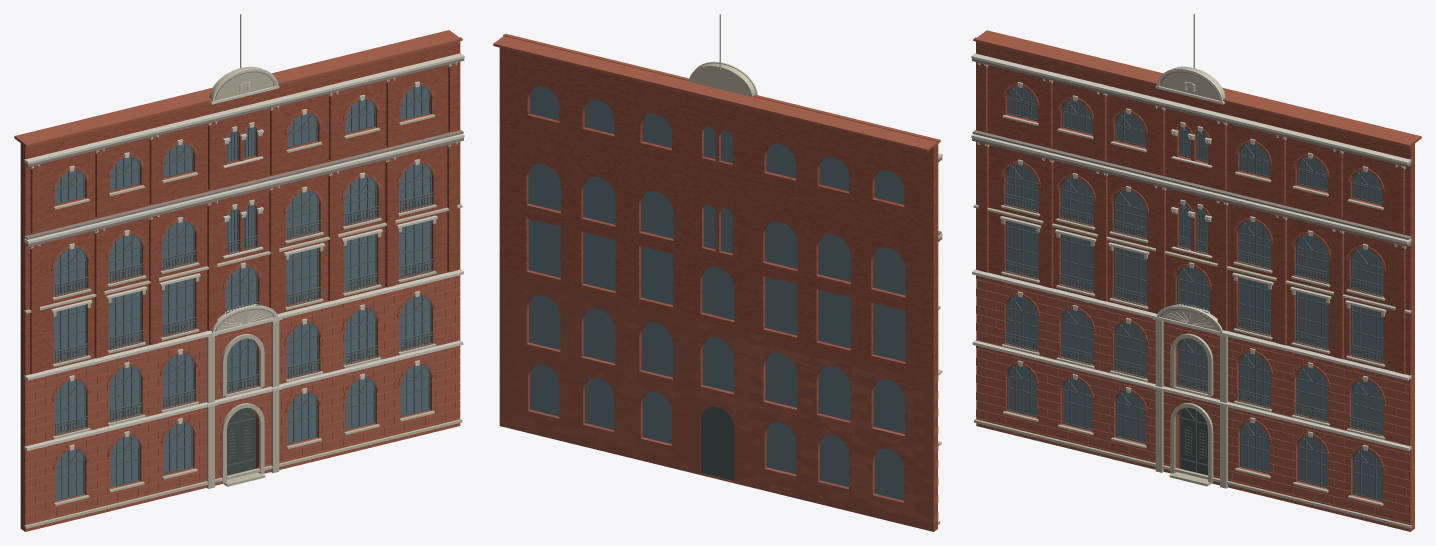
File: huangpu-swire-east-building-bund-front-web.glb
The picture shows the model from 3 angles, left to right: view 1: azimuth 30°, elevation 25°; view 2: azimuth 150°, elevation 25°; view 3: azimuth 330°, elevation 25°; orthographic projection.
Parts seen in each view (by area): view 1: 太古洋行东楼临江七开间红砖正立面; view 2: 太古洋行东楼临江七开间红砖正立面; view 3: 太古洋行东楼临江七开间红砖正立面.
Part boxes in pixels (box(x1,y1,x2,y2)): 太古洋行东楼临江七开间红砖正立面: box(14, 14, 464, 531); 太古洋行东楼临江七开间红砖正立面: box(493, 14, 942, 531); 太古洋行东楼临江七开间红砖正立面: box(971, 14, 1421, 531).
Bounding box in the file's own units: 30.86 × 31.34 × 1.86.
Materials: 11 (1 with a texture image).
